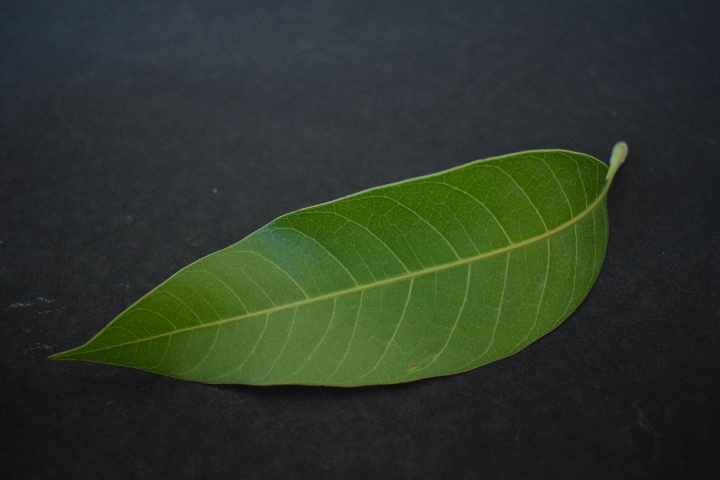healthy: (65, 151, 644, 386)
